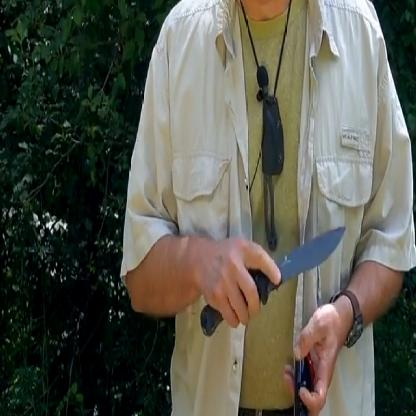knife: (196, 217, 351, 340)
